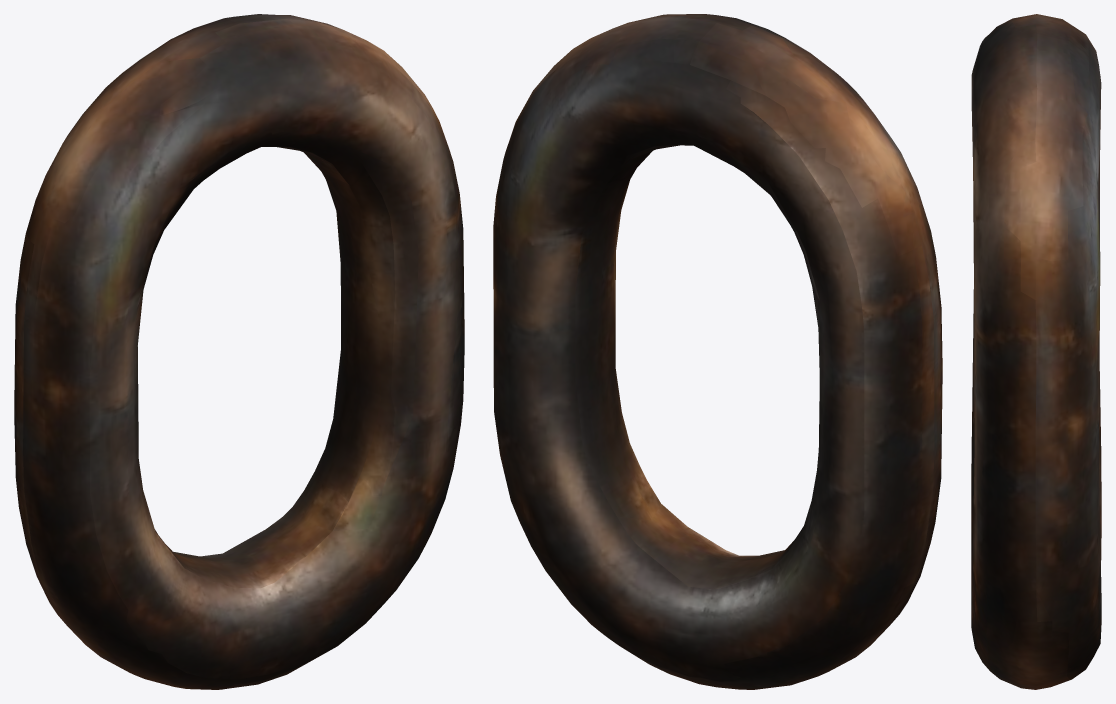
The model's file is package_chain.glb.
3 renders of one model, left to right at view 1: azimuth 30°, elevation 25°; view 2: azimuth 150°, elevation 25°; view 3: azimuth 270°, elevation 25°, orthographic. The views are drawn at different scales.
Visible parts, largest first — view 1: chain_link; view 2: chain_link; view 3: chain_link.
Boxes of the visible parts, x1,y1,x2,y2 form: chain_link: (14, 14, 464, 689); chain_link: (493, 14, 942, 689); chain_link: (971, 14, 1101, 689).
Size of the model in its own units: 0.445 by 0.6443 by 0.12.
Materials: 1 (1 with a texture image).
